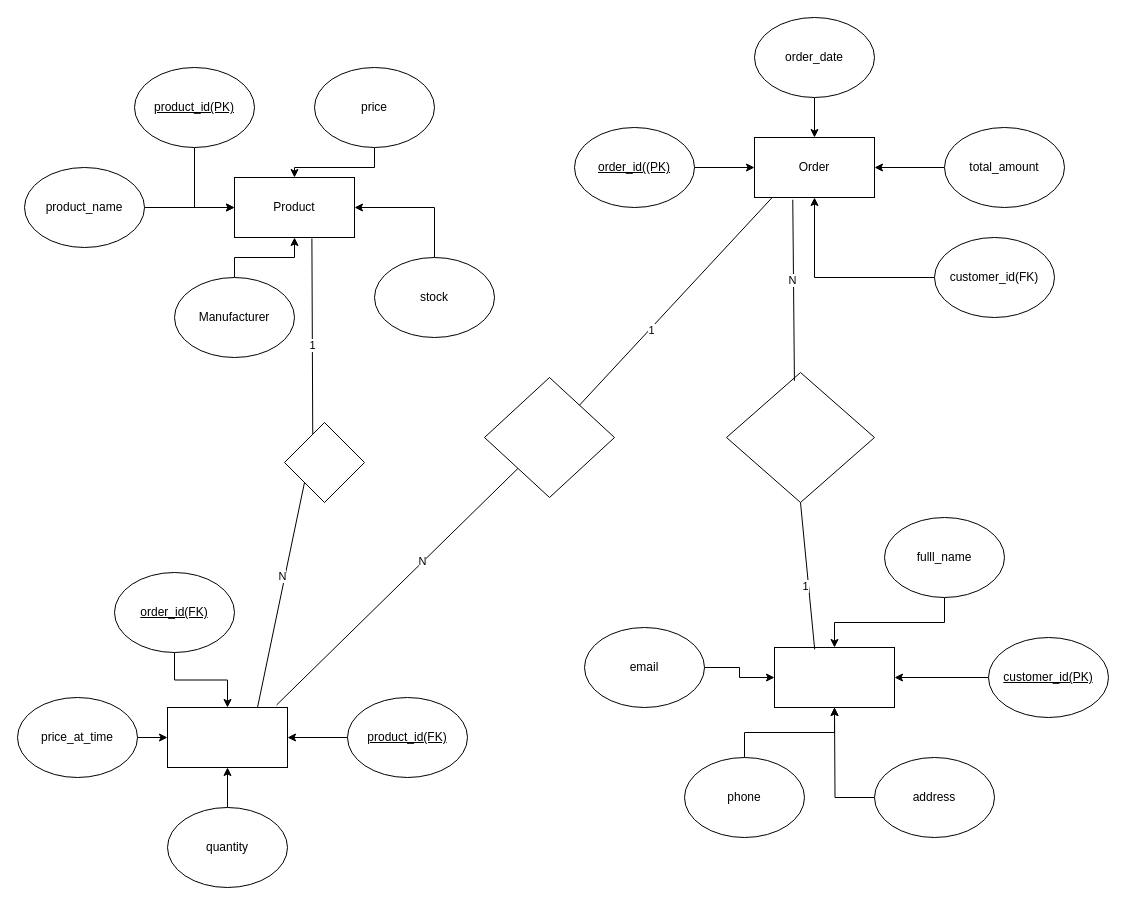
Image size: 1126x905. Some labels were removed from this diagram. Here are the shapes that lost their labels. From the top down, the centre of each, then its label:
point (549, 437): Chi tiết
point (800, 437): Đặt
point (324, 462): Chứa
point (834, 677): Customer
point (227, 737): Order_Detail
